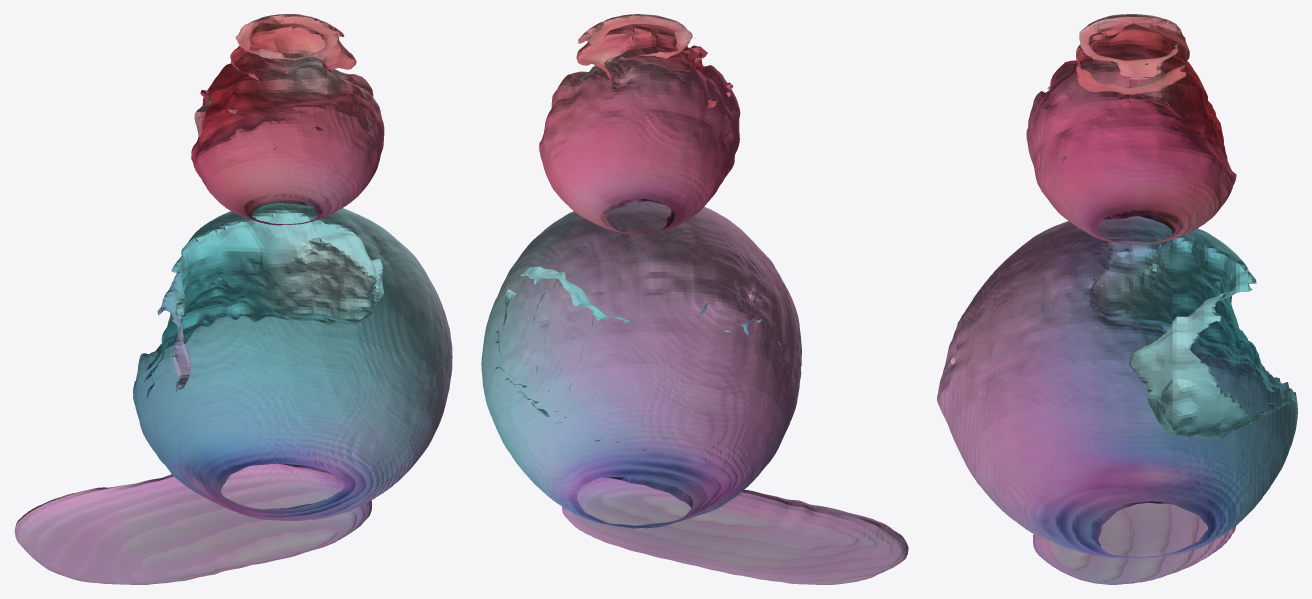
3 renders of one model, left to right at view 1: azimuth 30°, elevation 25°; view 2: azimuth 150°, elevation 25°; view 3: azimuth 270°, elevation 25°, orthographic. The views are drawn at different scales.
Parts seen in each view (by area): view 1: geometry_0; view 2: geometry_0; view 3: geometry_0.
Boxes of the visible parts, x1=… form: geometry_0: x1=14, y1=14, x2=452, y2=584; geometry_0: x1=481, y1=14, x2=908, y2=584; geometry_0: x1=937, y1=14, x2=1297, y2=584.
Size of the model in its own units: 1.32 by 1.6 by 0.9731.
